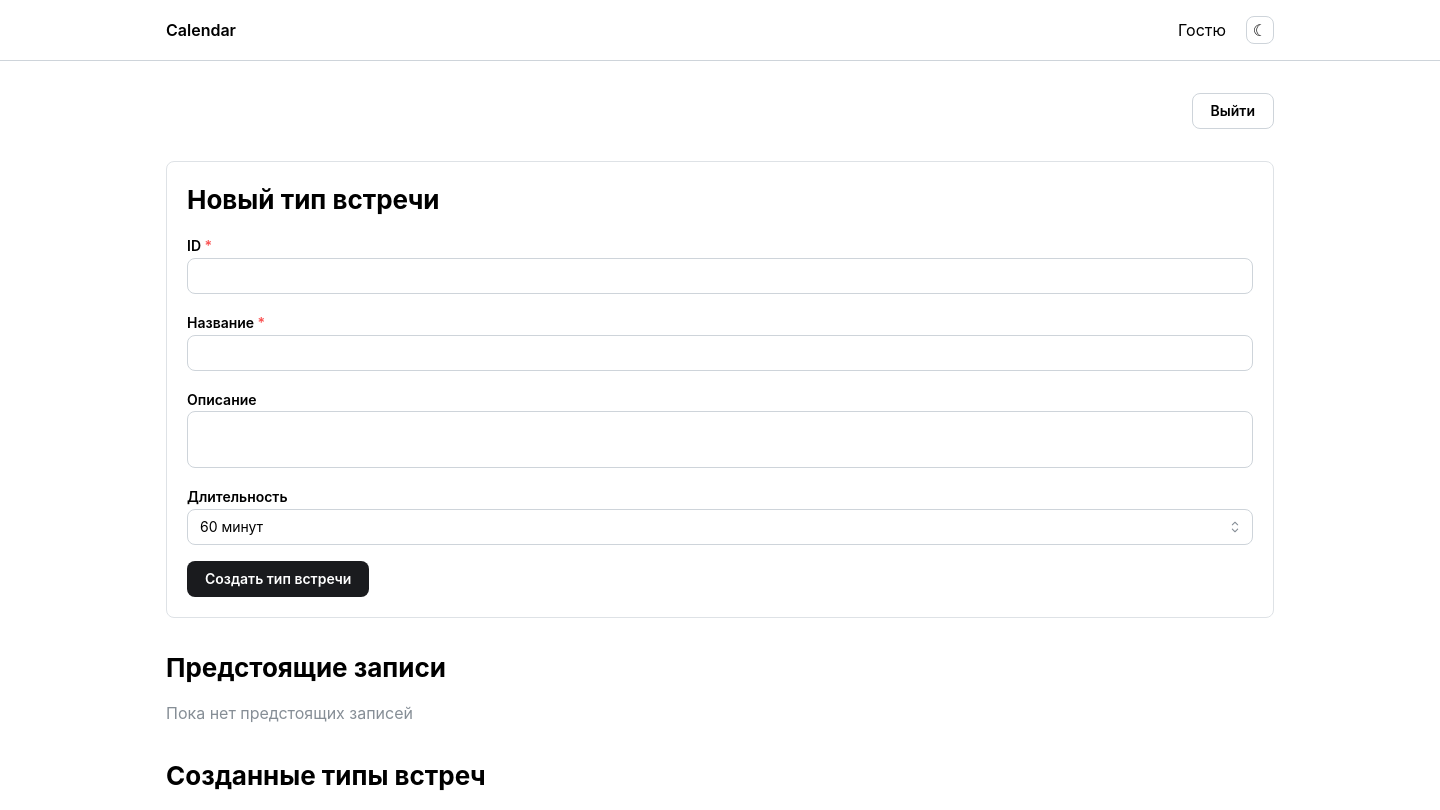
signs out and requires the password again
Click the button "Выйти" at (1233, 111), box x1=1192 y1=93 x2=1274 y2=129
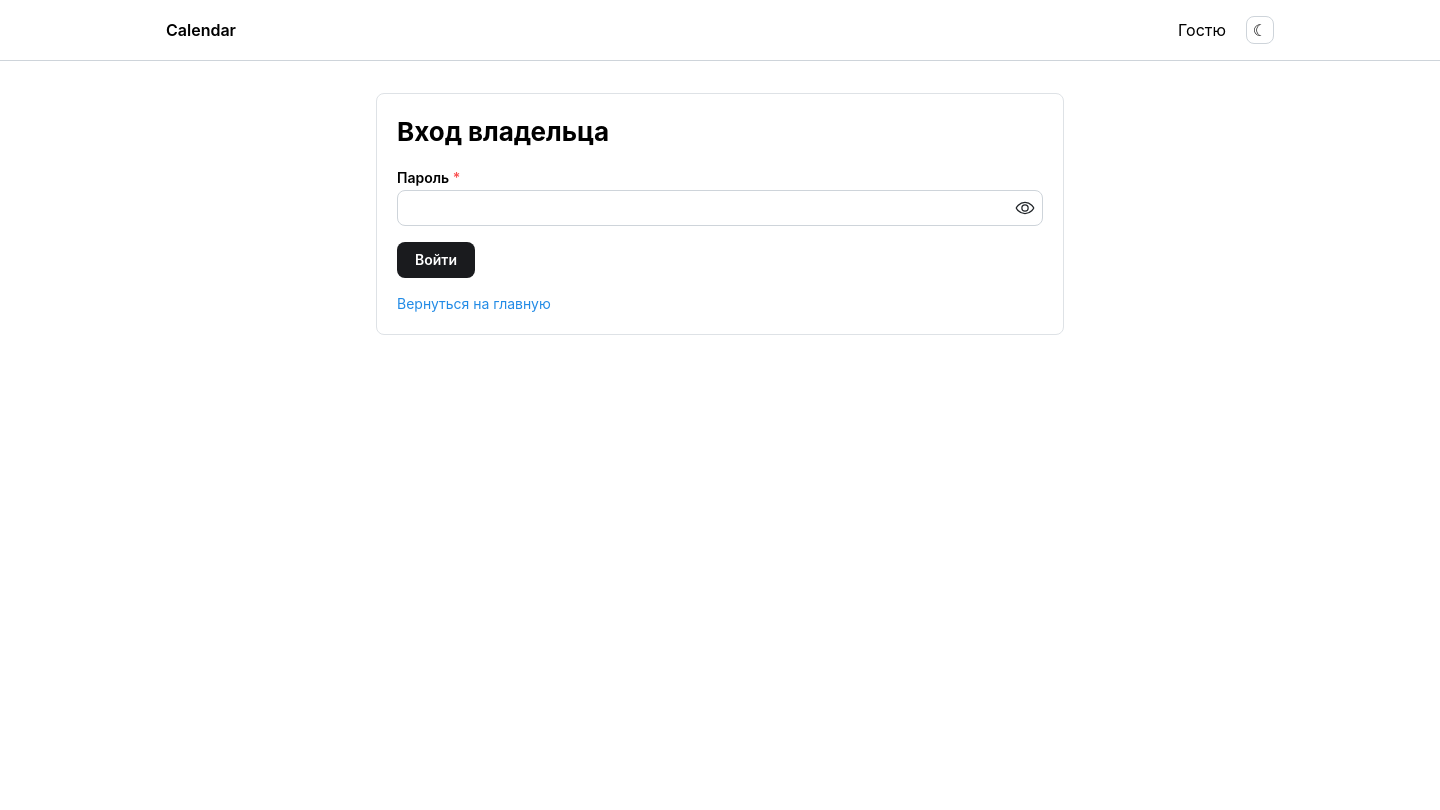
Expected: the heading "Вход владельца" is shown, x1=397 y1=116 x2=609 y2=147
Expected: the password field labelled "Пароль *" is shown, x1=398 y1=191 x2=1042 y2=225
